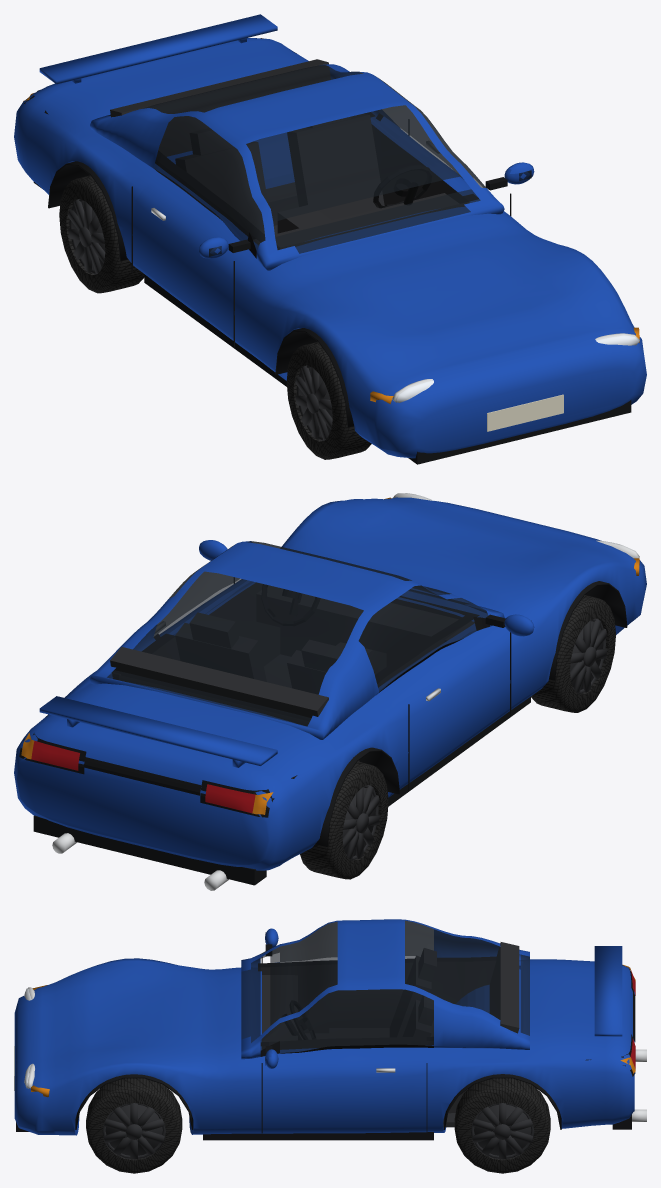
Rendered from car_coupe.glb.
3 views of the same model, one above another, from view 1: azimuth 30°, elevation 25°; view 2: azimuth 150°, elevation 25°; view 3: azimuth 270°, elevation 25° (orthographic). The views are drawn at different scales.
Parts seen in each view (by area): view 1: Body, wheel_RR, wheel_FR, Door_L; view 2: Body, wheel_RR, wheel_FR, Door_L; view 3: Body, Door_L, wheel_RL, wheel_FL.
Part boxes in pixels (x1,y1,x2,y2): Body: (14,14,646,464); wheel_RR: (59,175,144,293); wheel_FR: (286,342,371,459); Door_L: (375,76,534,201); Body: (14,493,646,890); wheel_RR: (300,761,388,879); wheel_FR: (531,595,615,712); Door_L: (159,540,253,636); Body: (14,919,646,1140); Door_L: (262,989,426,1130); wheel_RL: (454,1078,550,1173); wheel_FL: (86,1078,182,1173).
Size of the model in its own units: 2.28 by 1.37 by 4.6.
12 materials, 1 textured.
